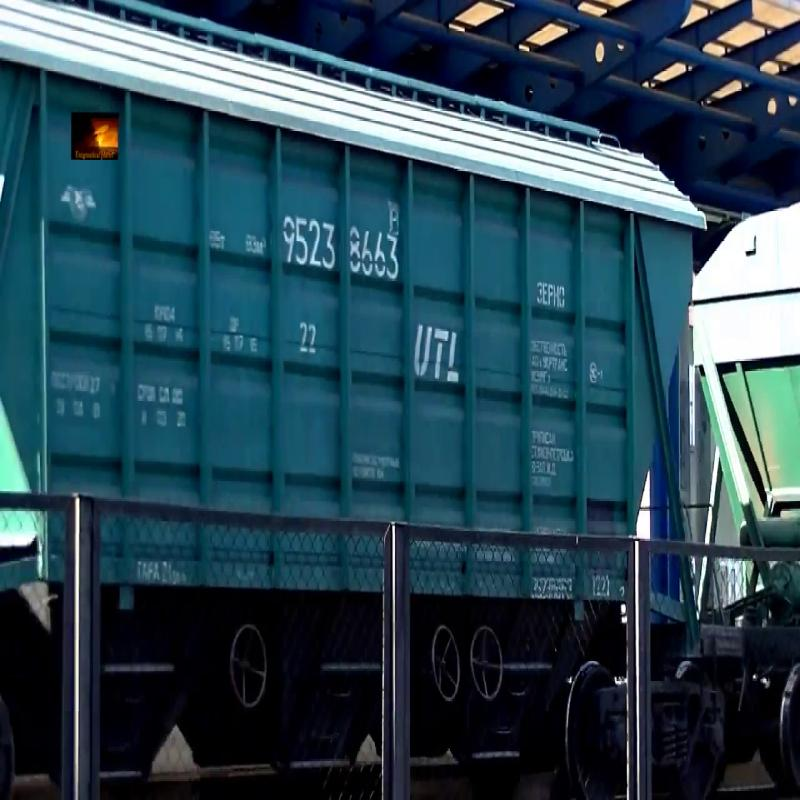train: (1, 1, 710, 777), (765, 10, 800, 782)
